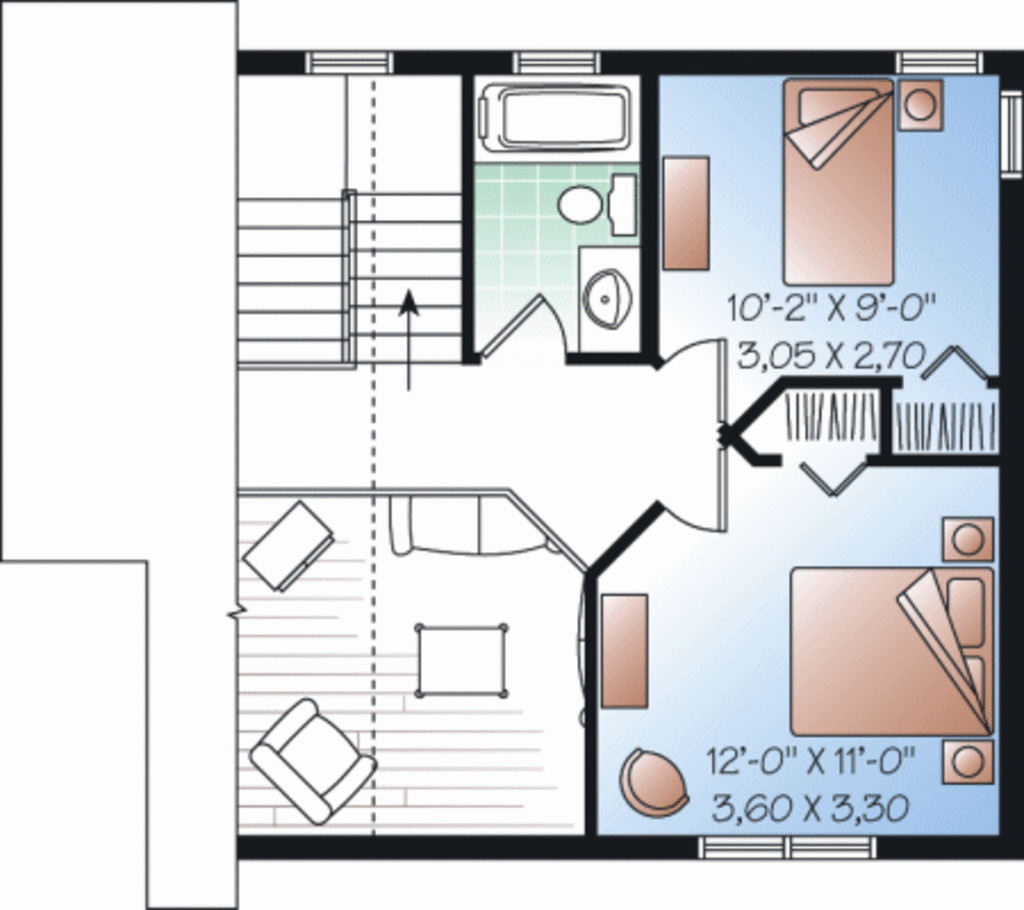bed: (776, 552, 997, 746), (776, 67, 902, 295)
door: (648, 446, 740, 537), (469, 287, 563, 367), (655, 323, 730, 416)
large_sink: (547, 163, 640, 239)
small_sink: (575, 242, 648, 352)
small_sofa: (250, 680, 393, 831)
stairs: (238, 77, 459, 389)
tub: (477, 74, 633, 162)
window: (515, 46, 605, 81), (301, 44, 395, 77), (697, 837, 791, 867), (790, 838, 887, 862), (897, 49, 983, 73), (1000, 95, 1024, 169)
